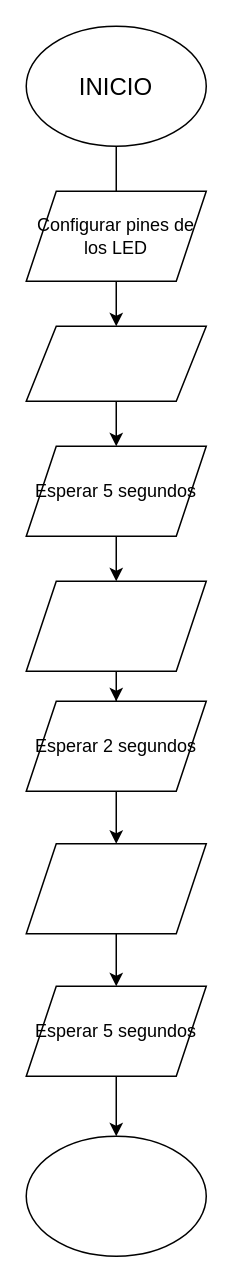
Some shapes in this 233 by 1283 pixel diagram are drawn without their labels. The centre of each missing label's shape, as x and y in pixels:
Encender LED amarillo: pixel 115 625
Encender LED rojo: pixel 115 888
Encender LED verde: pixel 115 363
